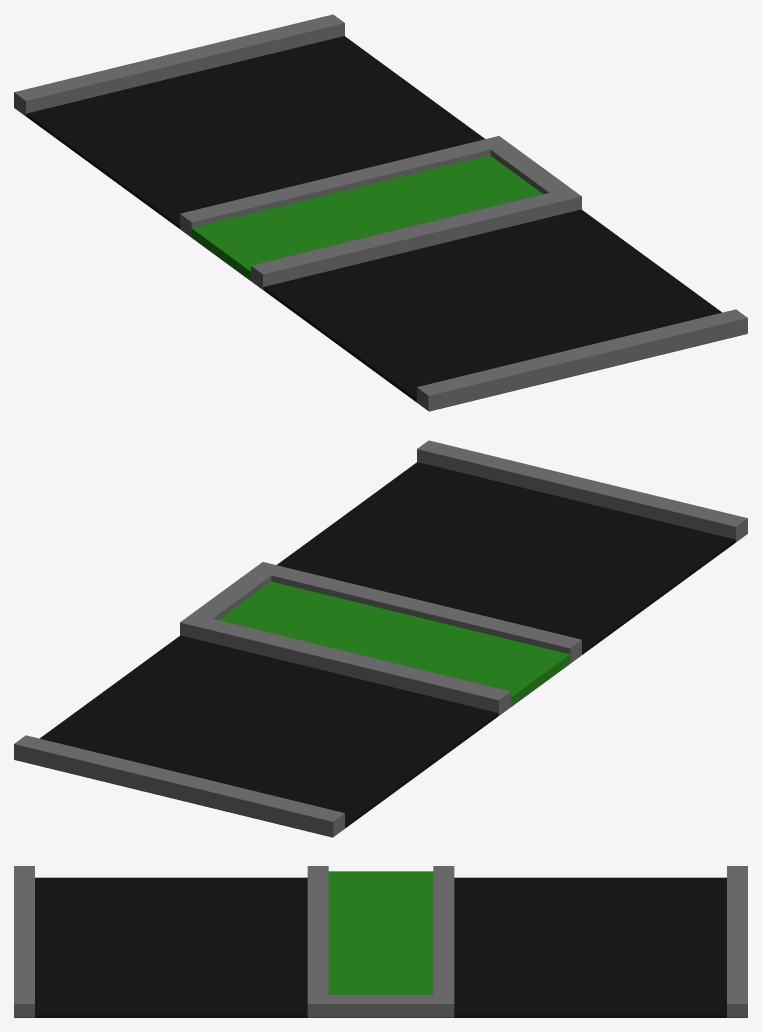
The model's file is Road_3.fbx.
The picture shows the model from 3 angles, top to bottom: view 1: azimuth 30°, elevation 25°; view 2: azimuth 150°, elevation 25°; view 3: azimuth 270°, elevation 25°; orthographic projection. The views are drawn at different scales.
Visible parts, largest first — view 1: Cube.018, Cube.013, Cube.019, Cube.017, Cube.016; view 2: Cube.018, Cube.013, Cube.019, Cube.016, Cube.017; view 3: Cube.018, Cube.013, Cube.019, Cube.016, Cube.017.
Boxes of the visible parts, box(x1,y1,x2,y2) form: Cube.018: box(26, 36, 746, 411); Cube.013: box(191, 155, 542, 280); Cube.019: box(180, 136, 581, 289); Cube.017: box(417, 309, 747, 411); Cube.016: box(14, 14, 344, 116); Cube.018: box(15, 462, 735, 837); Cube.013: box(219, 581, 570, 706); Cube.019: box(180, 562, 581, 715); Cube.016: box(14, 735, 344, 837); Cube.017: box(417, 440, 747, 542); Cube.018: box(14, 877, 747, 1017); Cube.013: box(328, 871, 433, 994); Cube.019: box(307, 866, 454, 1017); Cube.016: box(727, 866, 747, 1017); Cube.017: box(14, 866, 34, 1017).
Bounding box in the file's own units: 890 × 42.71 × 2003.
